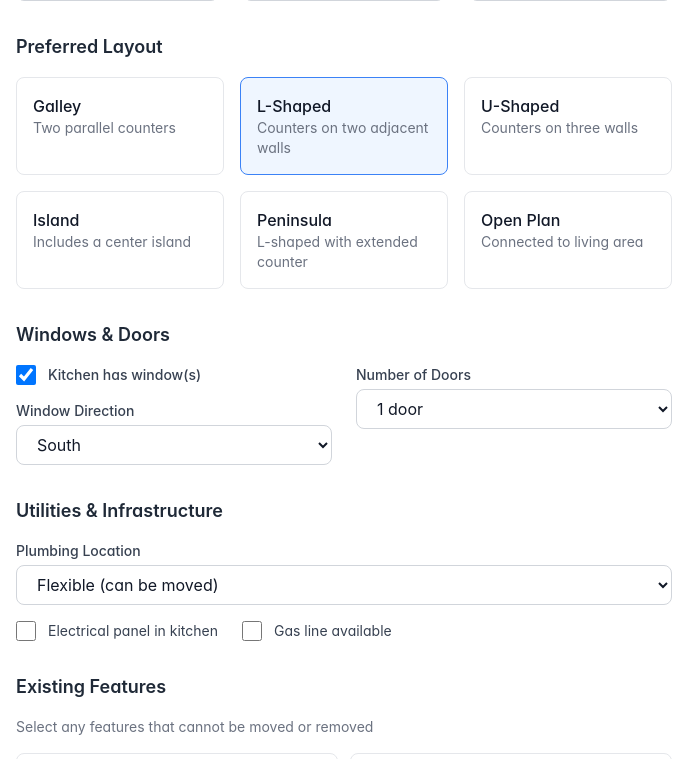
Test: SpatialConstraints › User Interactions › should hide window direction select when hasWindow is unchecked
This screenshot has width=689, height=759.
(page scrolled)
Expected: the text "Kitchen has window(s)" is shown, top-left (48, 365), bottom-right (201, 385)
Click the checkbox labelled "Kitchen has window(s)". click: (26, 375)
box: top-left (16, 365), bottom-right (36, 385)
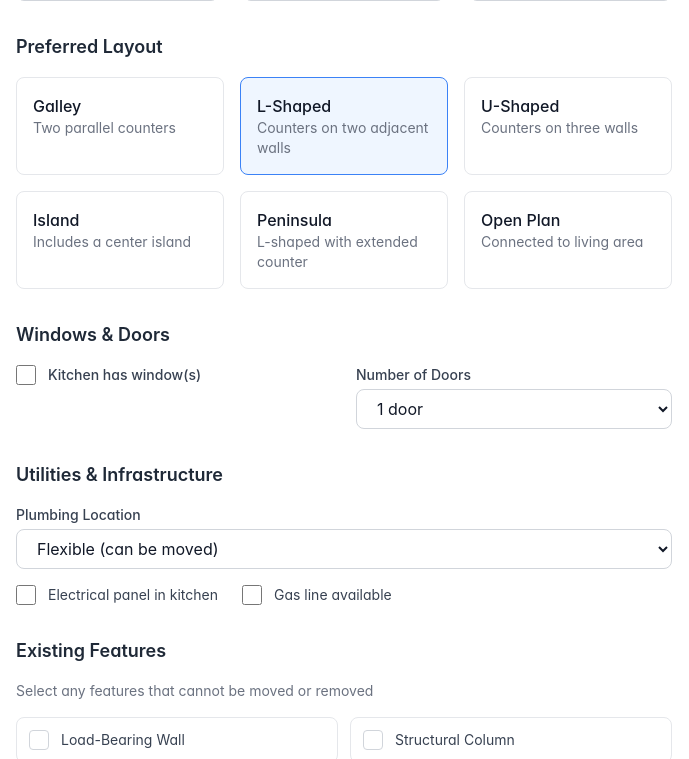
Expected: the label labelled "Window Direction" is gone
